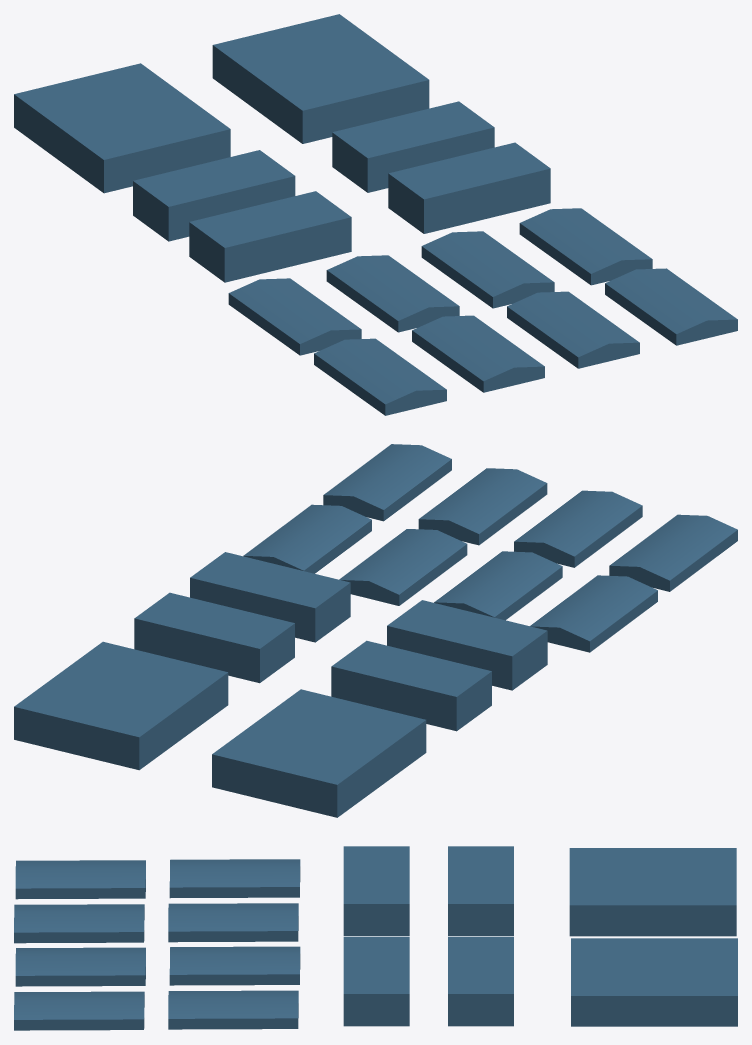
The model's file is 科技氛围建筑_005.glb.
The picture shows the model from 3 angles, top to bottom: view 1: azimuth 30°, elevation 25°; view 2: azimuth 150°, elevation 25°; view 3: azimuth 270°, elevation 25°; orthographic projection. The views are drawn at different scales.
Visible parts, largest first — view 1: 科技氛围建筑_005; view 2: 科技氛围建筑_005; view 3: 科技氛围建筑_005.
Boxes of the visible parts, left/top/right/bottom form: 科技氛围建筑_005: left=14, top=14, right=737, bottom=415; 科技氛围建筑_005: left=14, top=444, right=737, bottom=817; 科技氛围建筑_005: left=14, top=846, right=737, bottom=1030.
Size of the model in its own units: 53.31 by 4.98 by 101.
